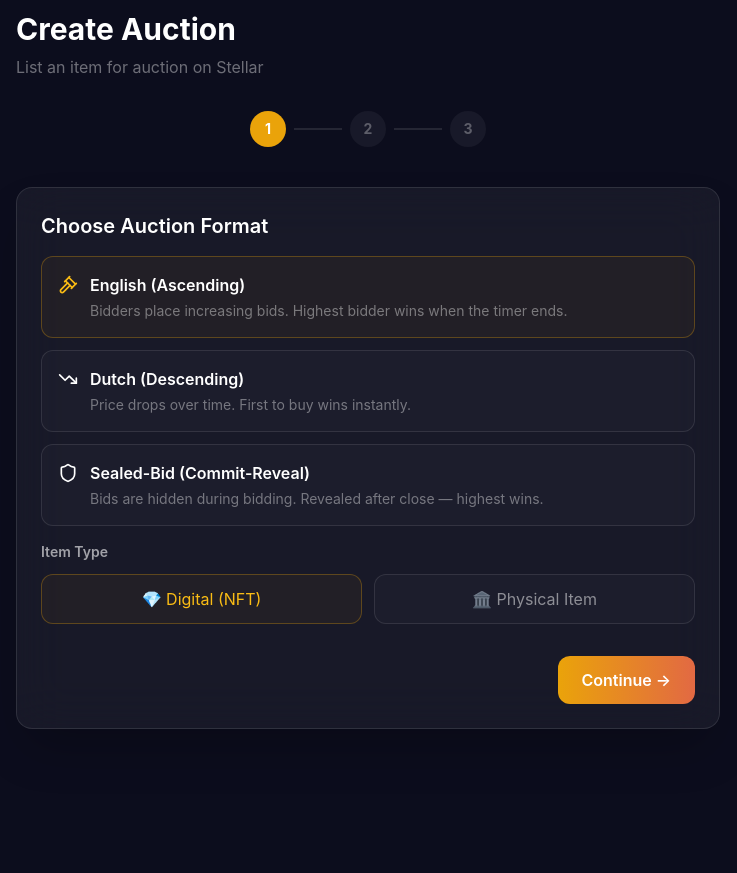
Scenario: CreateAuctionPage › step 2 shows custodian address when physical item type selected
Click the button "🏛️ Physical Item".
click(534, 599)  # box [374, 574, 695, 624]
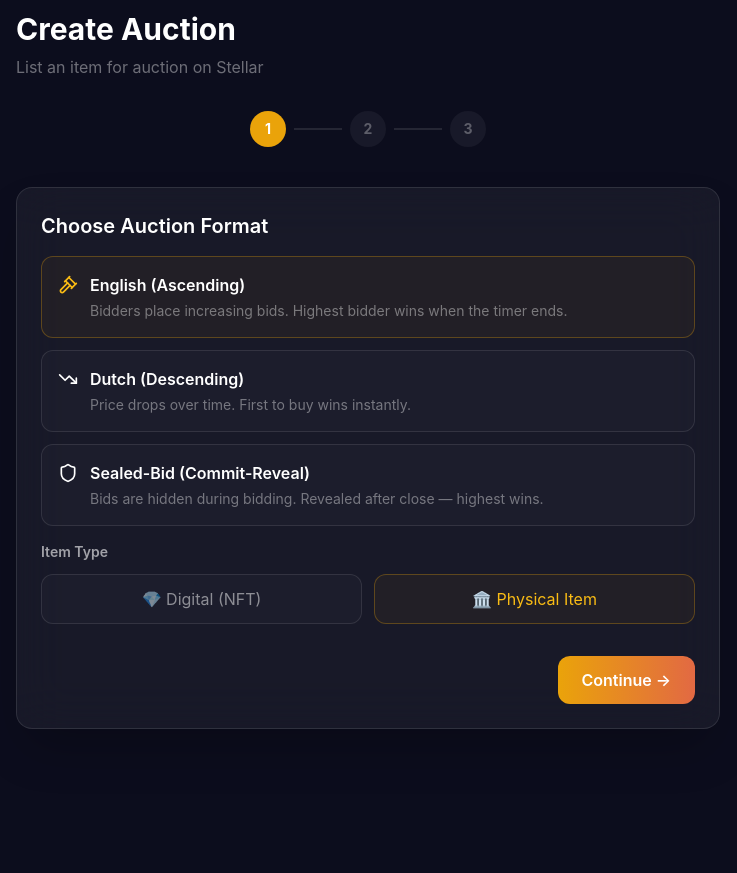
Click the button "Continue →".
click(626, 680)  # box [558, 656, 695, 704]
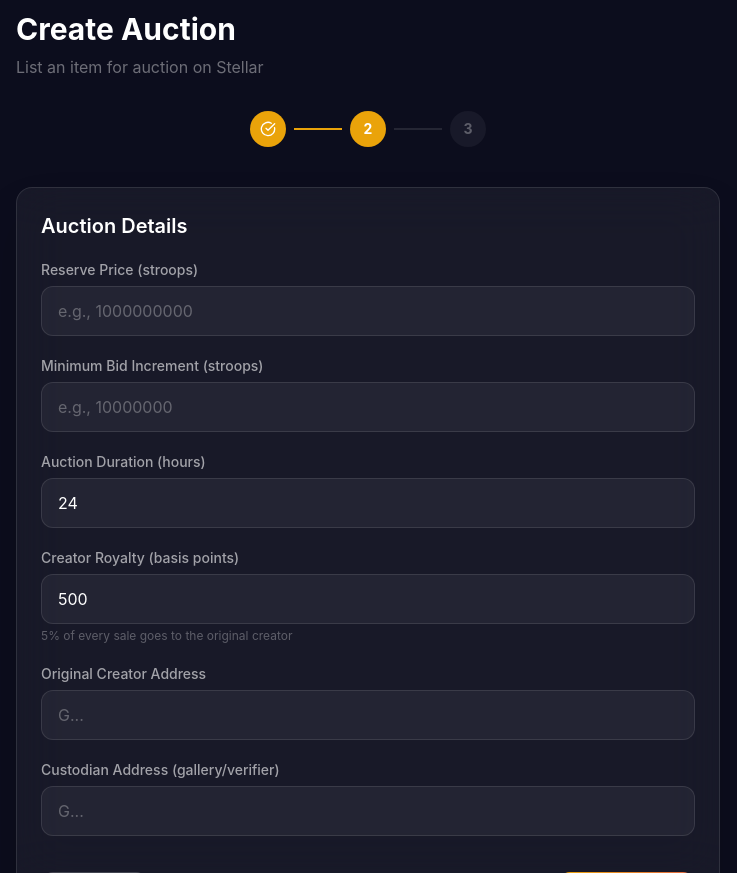
Check: the text "Custodian Address (gallery/verifier)" is shown, box [41, 761, 280, 778]
